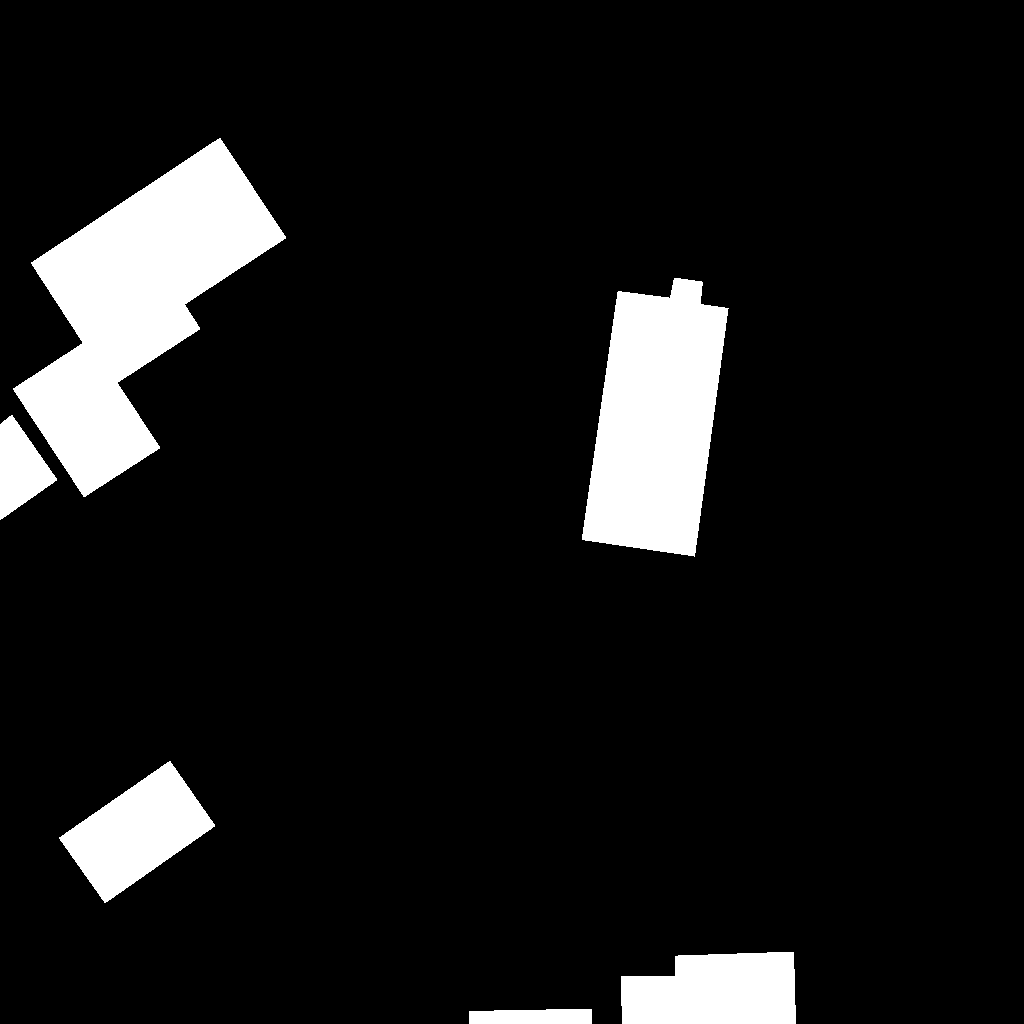building: (13, 138, 287, 498), (582, 278, 729, 557), (59, 761, 216, 904), (621, 952, 797, 1024), (0, 415, 58, 521), (469, 1009, 593, 1024)
